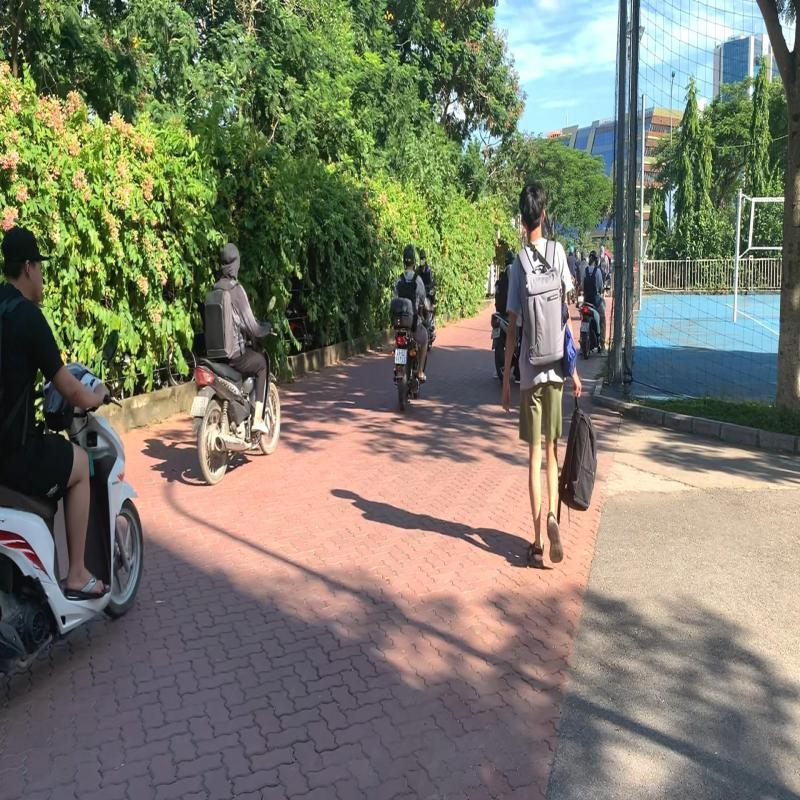nohelmet: (0, 215, 58, 310)
